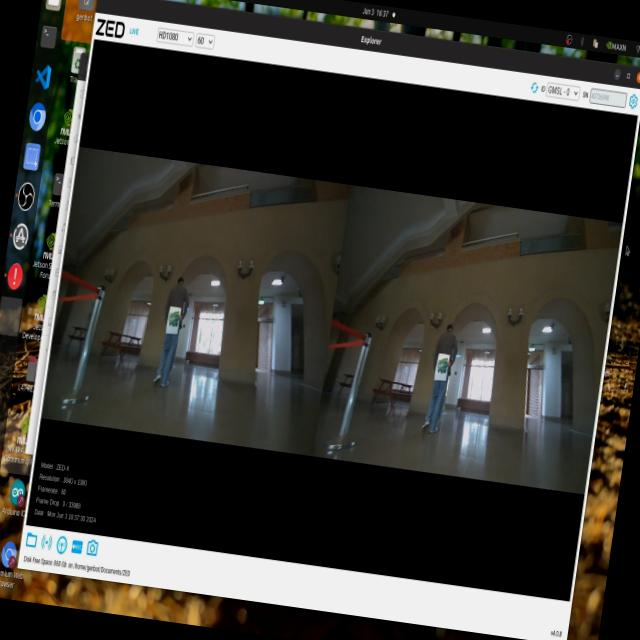green: (436, 350, 452, 380), (161, 312, 180, 337)
